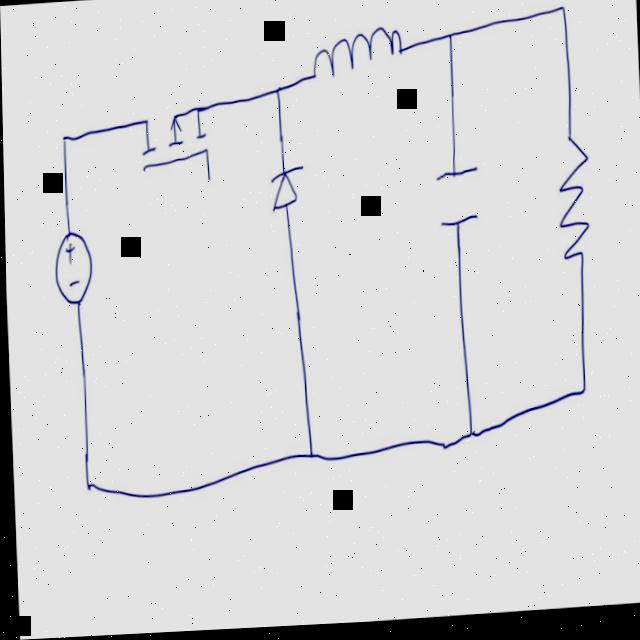capacitor: (427, 151, 485, 260)
diode: (261, 153, 308, 229)
inductor: (296, 23, 416, 100)
mosfet: (125, 101, 233, 213)
resistor: (543, 121, 602, 302)
source: (51, 231, 93, 311)
